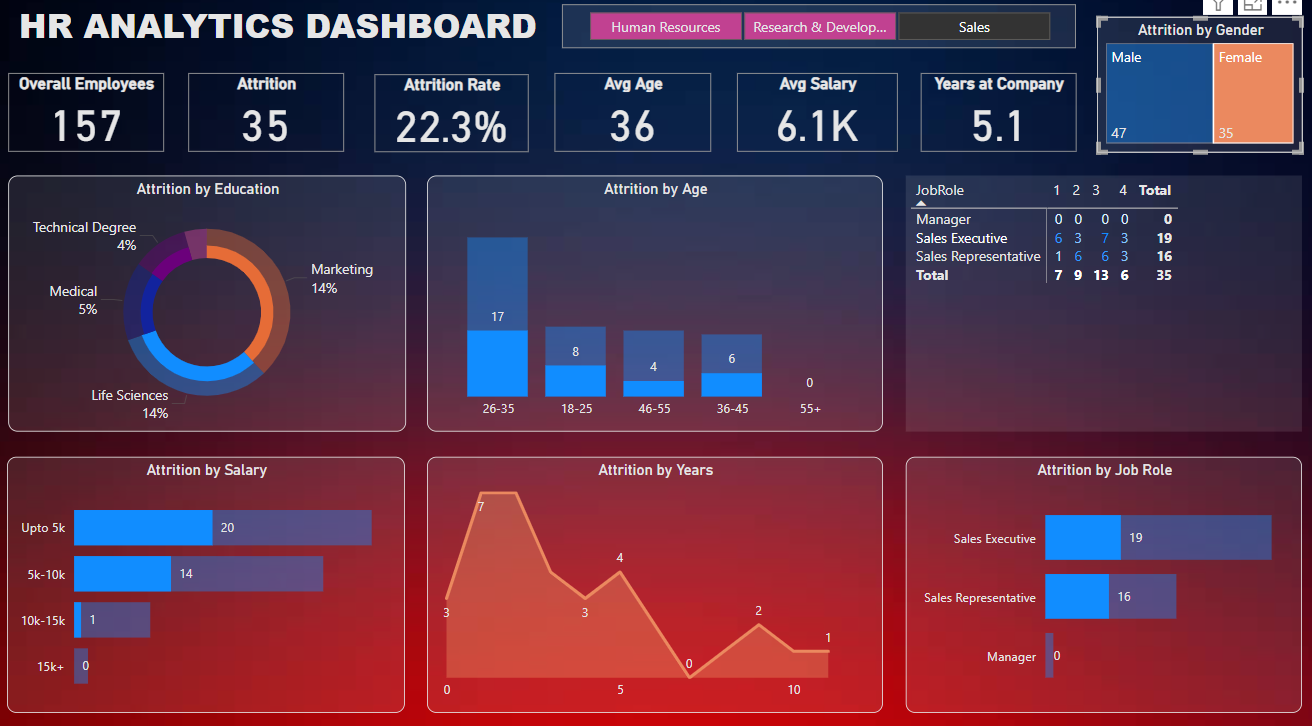

The dashboard page shown, as its layout file describes it:
{"tool":"powerbi","page":{"name":"Page 1","canvas":[1280,720],"ordinal":0},"visuals":[{"type":"card","title":"Overall Employees","fields":{"Values":["CountNonNull(HR_Analytics.EmpID)"]},"box":[16.2,82.5,150,76.2],"z":0},{"type":"card","title":"Attrition","fields":{"Values":["Sum(HR_Analytics.attretion count)"]},"box":[190,82.5,150,76.2],"z":1000},{"type":"card","title":"Avg Age","fields":{"Values":["Avg(HR_Analytics.Age)"]},"box":[542.5,82.5,151.2,76.2],"z":2000},{"type":"card","title":"Attrition Rate","fields":{"Values":["HR_Analytics.attretion rate"]},"box":[368.8,83.8,148.8,75],"z":3000},{"type":"card","title":"Avg Salary","fields":{"Values":["Avg(HR_Analytics.MonthlyIncome)"]},"box":[718.8,82.5,155,76.2],"z":4000},{"type":"card","title":"Years at Company","fields":{"Values":["Avg(HR_Analytics.YearsAtCompany)"]},"box":[896.2,82.5,150,76.2],"z":5000},{"type":"donutChart","title":"Attrition by Education","fields":{"Category":["HR_Analytics.EducationField"],"Y":["Sum(HR_Analytics.attretion count)"]},"box":[16.2,181.2,383.8,247.5],"z":6000},{"type":"columnChart","title":"Attrition by Age","fields":{"Category":["HR_Analytics.AgeGroup"],"Y":["Sum(HR_Analytics.attretion count)"]},"box":[420,181.2,440,247.5],"z":7000},{"type":"pivotTable","fields":{"Rows":["HR_Analytics.JobRole"],"Columns":["HR_Analytics.JobSatisfaction"],"Values":["Sum(HR_Analytics.attretion count)"]},"box":[882.5,181.2,382.5,247.5],"z":8000},{"type":"barChart","title":"Attrition by Salary","fields":{"Y":["Sum(HR_Analytics.attretion count)"],"Category":["HR_Analytics.SalarySlab"]},"box":[15,452.5,383.8,247.5],"z":9000},{"type":"barChart","title":"Attrition by Job Role","fields":{"Y":["Sum(HR_Analytics.attretion count)"],"Category":["HR_Analytics.JobRole"]},"box":[882.5,452.5,382.5,247.5],"z":10000},{"type":"areaChart","title":"Attrition by Years","fields":{"Category":["HR_Analytics.YearsAtCompany"],"Y":["Sum(HR_Analytics.attretion count)"]},"box":[420,452.5,440,247.5],"z":11000},{"type":"treemap","title":"Attrition by Gender","fields":{"Group":["HR_Analytics.Gender"],"Values":["Sum(HR_Analytics.attretion count)"]},"box":[1066.2,27.5,198.8,131.2],"z":12000},{"type":"slicer","fields":{"Values":["HR_Analytics.Department"]},"box":[550,16.2,496.2,42.5],"z":13000},{"type":"textbox","box":[16.9,8.4,518.1,59],"z":14000}]}

Visuals, with their boxes in screenshot pixels (x1, y1, x2, y2), scaled from the page's 1280x720 canvas onto the 1312x726 screenshot:
"Overall Employees" card: [x1=17, y1=83, x2=170, y2=160]
"Attrition" card: [x1=195, y1=83, x2=348, y2=160]
"Avg Age" card: [x1=556, y1=83, x2=711, y2=160]
"Attrition Rate" card: [x1=378, y1=84, x2=531, y2=160]
"Avg Salary" card: [x1=737, y1=83, x2=896, y2=160]
"Years at Company" card: [x1=919, y1=83, x2=1072, y2=160]
"Attrition by Education" donutChart: [x1=17, y1=183, x2=410, y2=432]
"Attrition by Age" columnChart: [x1=430, y1=183, x2=881, y2=432]
pivotTable - HR_Analytics.JobRole x HR_Analytics.JobSatisfaction: [x1=905, y1=183, x2=1297, y2=432]
"Attrition by Salary" barChart: [x1=15, y1=456, x2=409, y2=706]
"Attrition by Job Role" barChart: [x1=905, y1=456, x2=1297, y2=706]
"Attrition by Years" areaChart: [x1=430, y1=456, x2=881, y2=706]
"Attrition by Gender" treemap: [x1=1093, y1=28, x2=1297, y2=160]
slicer - HR_Analytics.Department: [x1=564, y1=16, x2=1072, y2=59]
textbox: [x1=17, y1=8, x2=548, y2=68]
